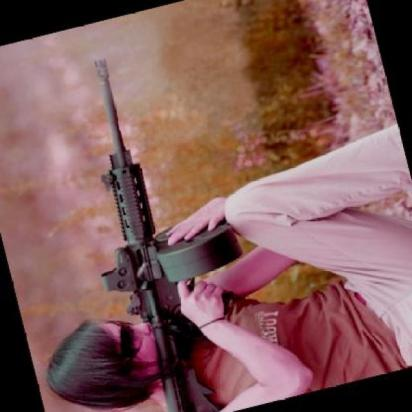Gun: (42, 35, 268, 412)
